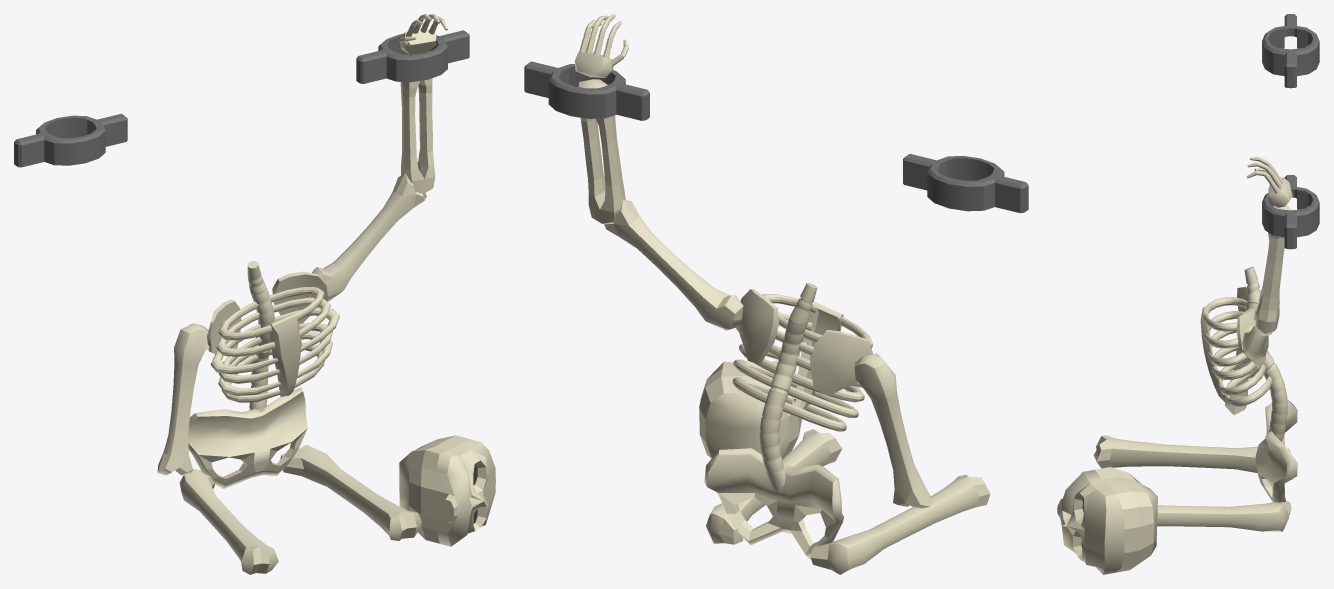
File: Cadaver4.fbx
3 renders of one model, left to right at view 1: azimuth 30°, elevation 25°; view 2: azimuth 150°, elevation 25°; view 3: azimuth 270°, elevation 25°, orthographic. The views are drawn at different scales.
Visible parts, largest first — view 1: Cadaver4; view 2: Cadaver4; view 3: Cadaver4.
Part boxes in pixels (x1=…): Cadaver4: x1=14, y1=14, x2=495, y2=574; Cadaver4: x1=524, y1=14, x2=1028, y2=574; Cadaver4: x1=1057, y1=14, x2=1319, y2=574.
Size of the model in its own units: 0.0126 by 0.012 by 0.00658.
